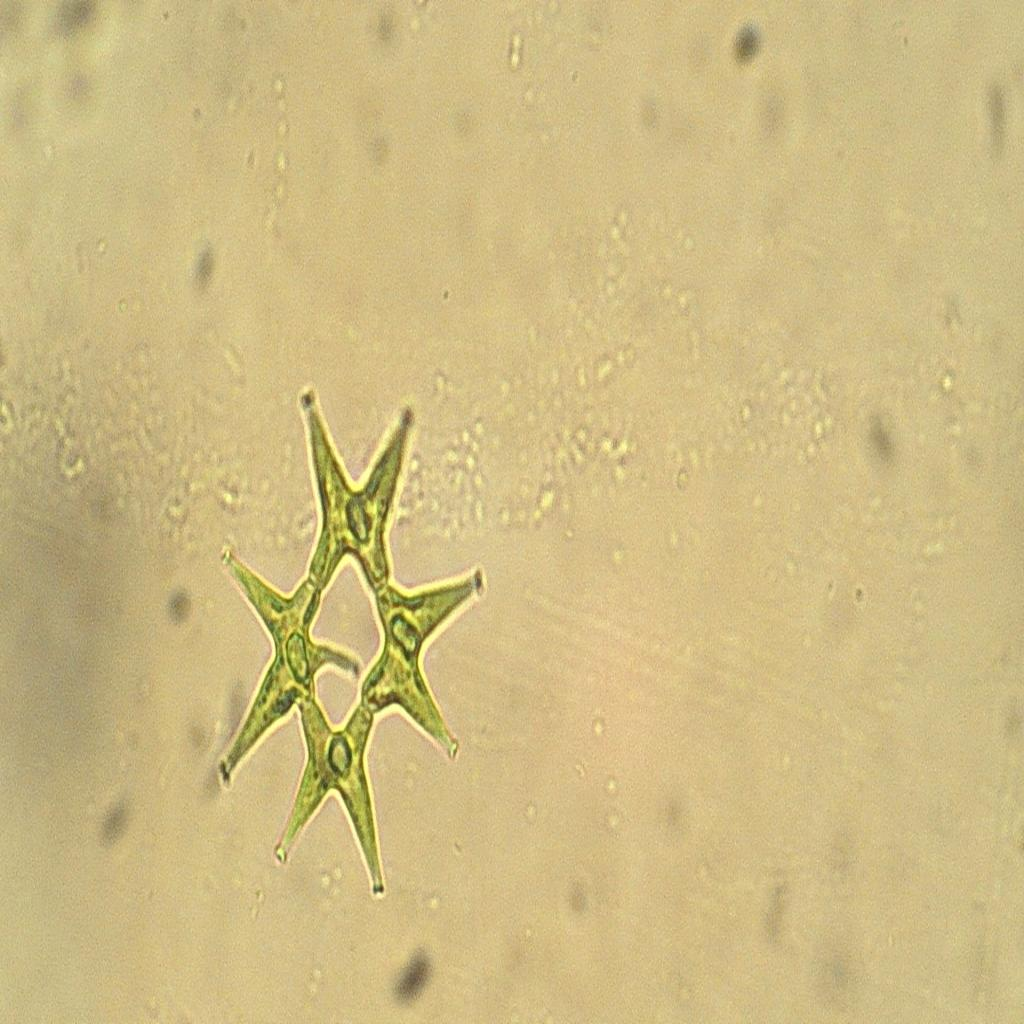Pediastrum_75FO: (203, 380, 505, 918)
